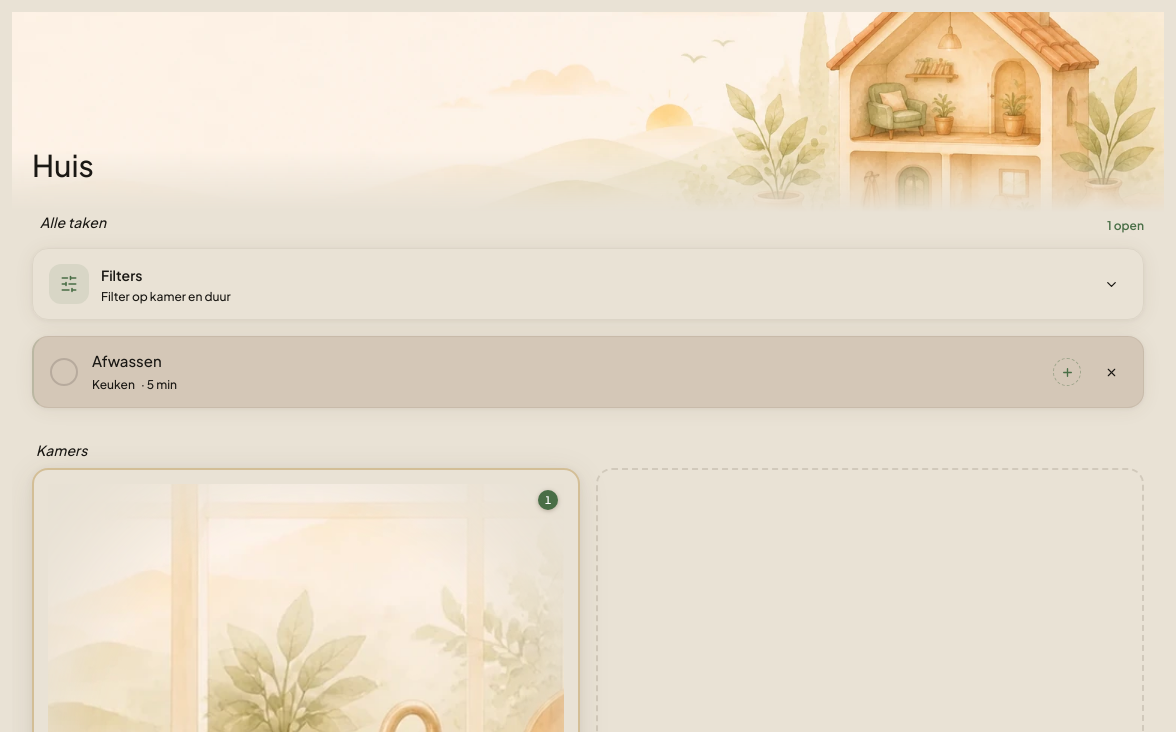
Scenario: HuisPage — list view › shows a calm 'geen taken' message when the filter matches nothing
What coordinates should you click on to do the following:
click the button "Filters Filter op kamer en duur"
I would click on:
 (69, 284)
Its box is top-left (33, 249), bottom-right (1135, 319).
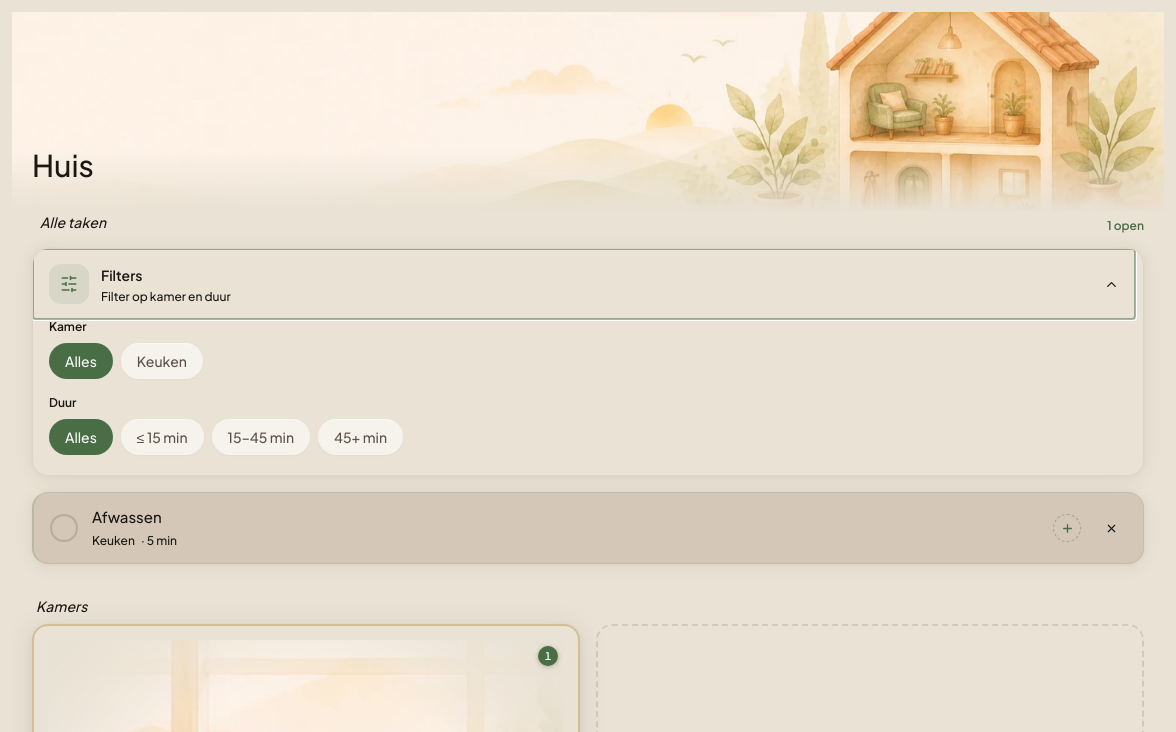
What coordinates should you click on to do the following:
click the button "45+ min"
I would click on:
 (361, 437)
Its box is top-left (318, 419), bottom-right (403, 455).
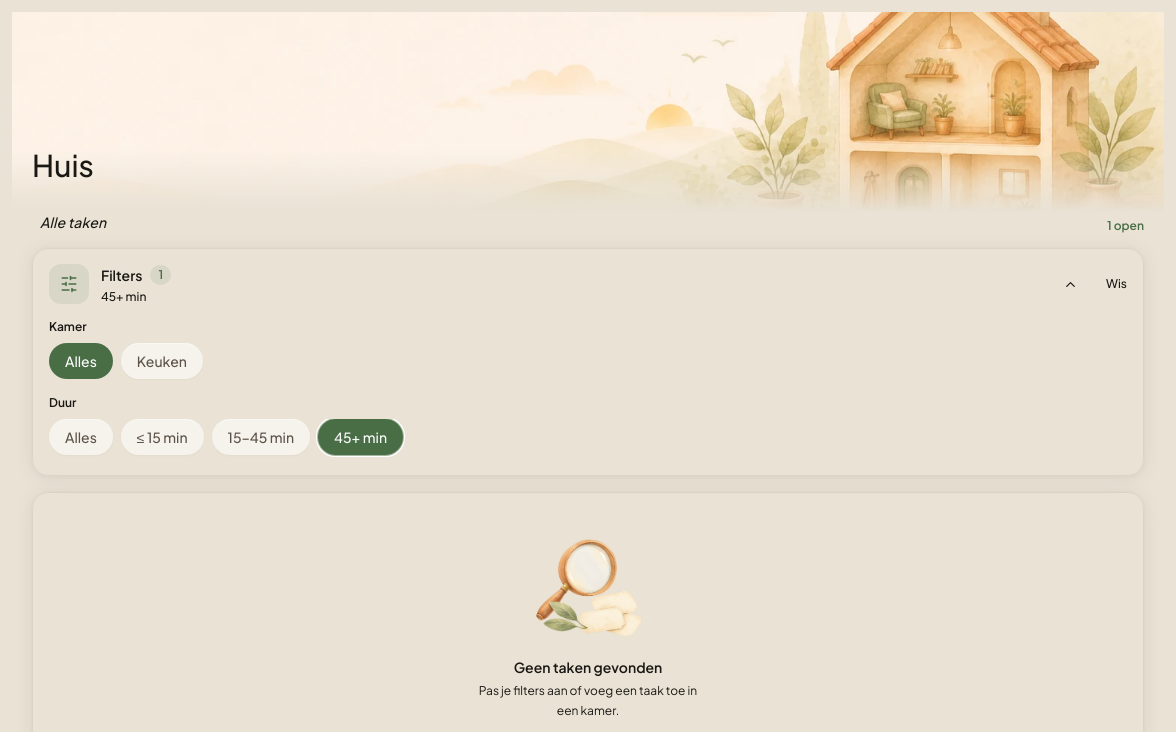
Check: the text "Geen taken gevonden" is shown, box top-left (514, 658), bottom-right (662, 676)
Check: the button "Afwassen" is gone
